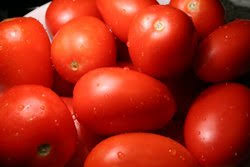tomato: (73, 68, 176, 129), (128, 5, 196, 73)
